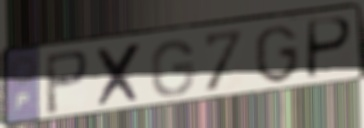7: (202, 27, 247, 96)
G: (252, 22, 302, 85), (149, 38, 196, 99)
P: (304, 15, 355, 82), (43, 48, 91, 118)
X: (94, 40, 145, 110)
